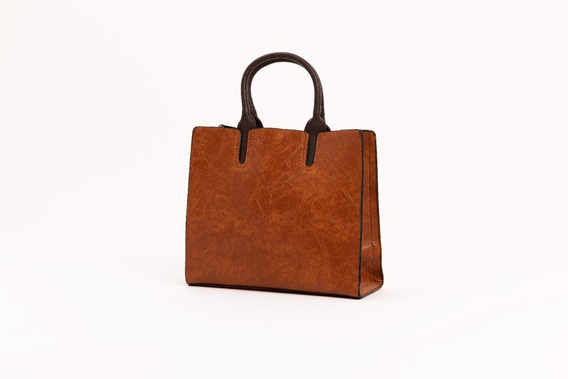cartera: (184, 50, 385, 300)
